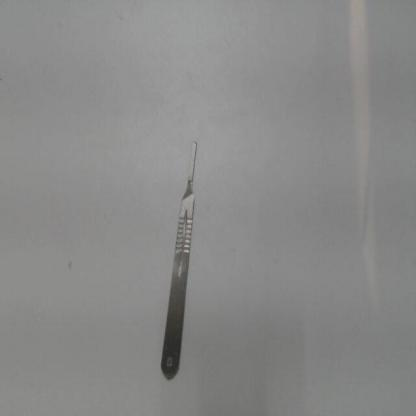No.4 BP Handle: (153, 136, 205, 388)
